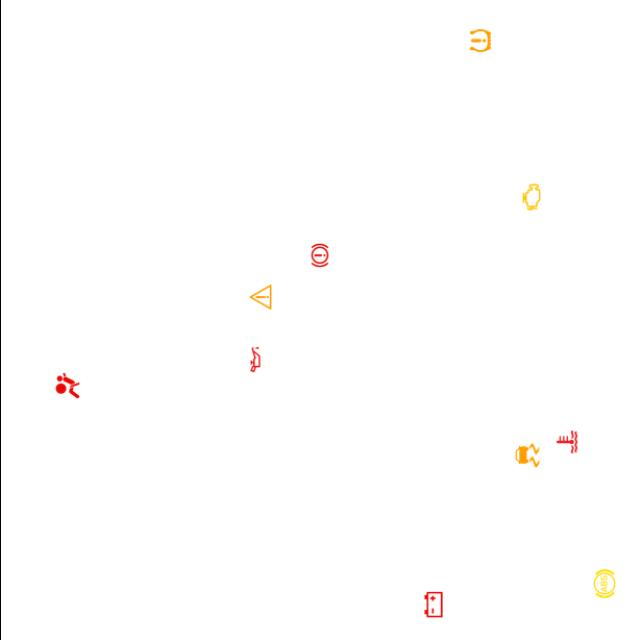Anti Lock Braking System: (588, 568, 620, 600)
Braking System Issue: (303, 240, 335, 272)
Charging System Issue: (416, 588, 448, 620)
Check Engine: (514, 181, 546, 213)
Electronic Stability Problem -ESP-: (510, 439, 542, 472)
Engine Overheating Warning Light: (550, 426, 582, 458)
Low Engine Oil Warning Light: (238, 344, 270, 376)
Low Tire Pressure Warning Light: (464, 24, 496, 56)
Master warning light: (243, 281, 276, 313)
SRS-Airbag: (51, 370, 82, 401)
